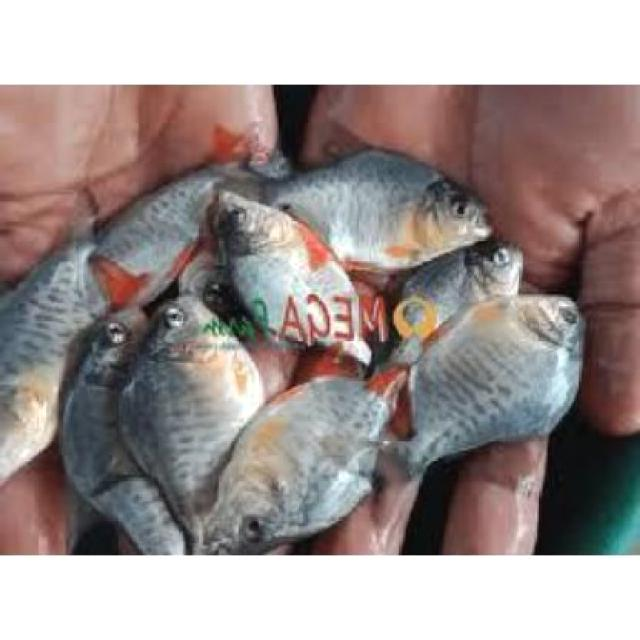ikan-pacu: (398, 288, 590, 466), (200, 378, 397, 548), (205, 190, 378, 352), (134, 297, 256, 525), (262, 153, 486, 259), (386, 233, 528, 344)
